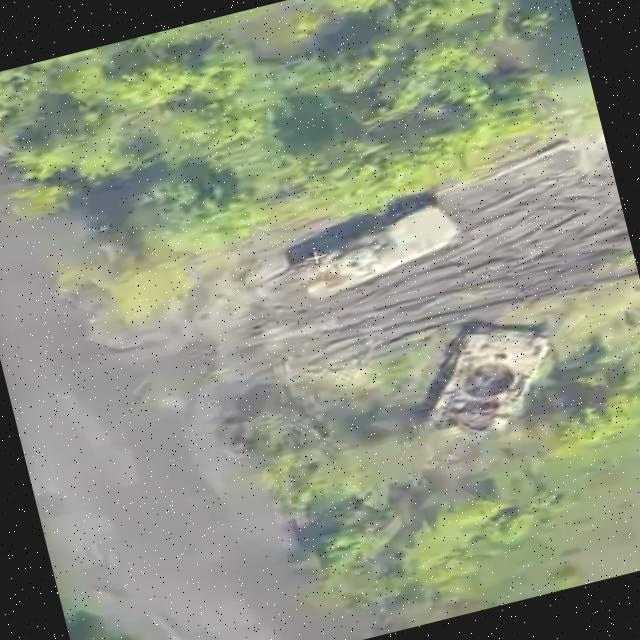AIFV: (285, 189, 474, 305)
Destroyed: (391, 303, 580, 465)
